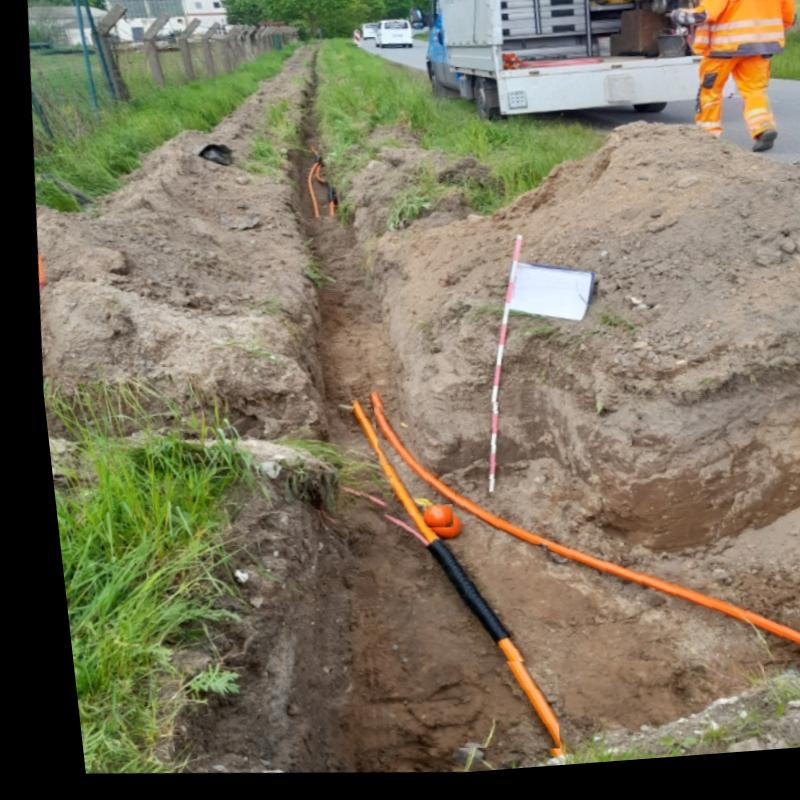Kugelmarker: (410, 511, 439, 533)
Orang-Speednetrohrchen: (363, 408, 800, 664), (343, 407, 541, 755)
